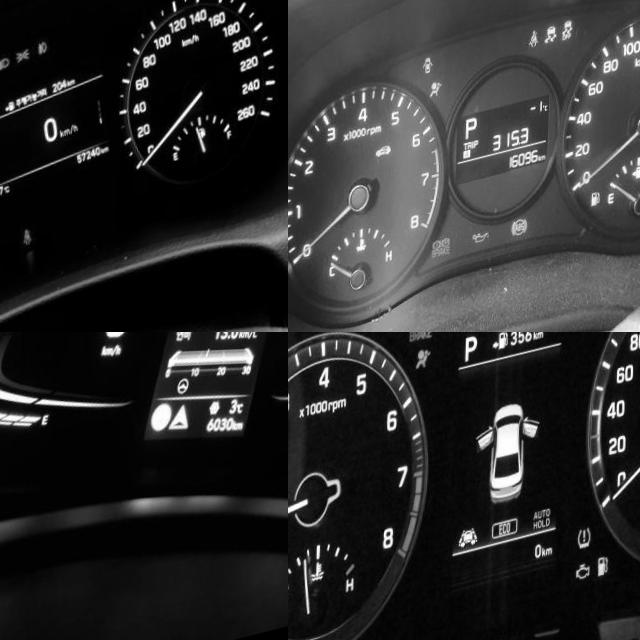FrontFogLight: (37, 55, 49, 72)
LaneCenteringOff: (459, 539, 481, 563)
Low beam: (0, 70, 11, 85)
Low fuel level: (599, 575, 612, 598)
SideLamp: (15, 62, 31, 79)
